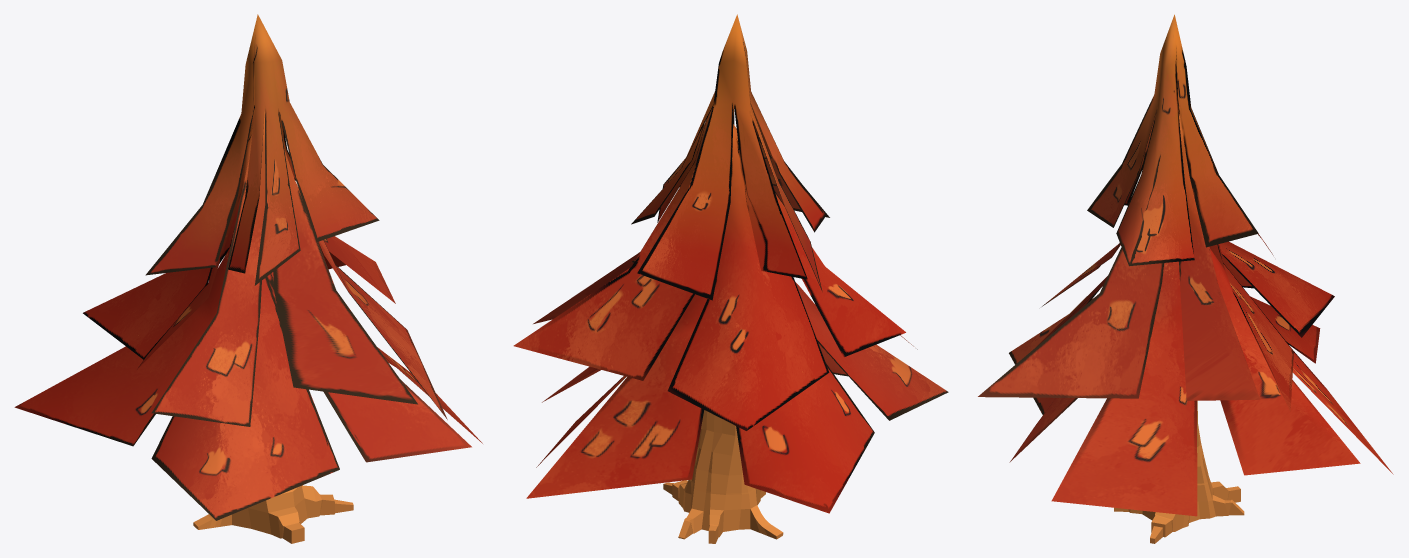
The model's file is spinetree.fbx.
3 renders of one model, left to right at view 1: azimuth 30°, elevation 25°; view 2: azimuth 150°, elevation 25°; view 3: azimuth 270°, elevation 25°, orthographic. The views are drawn at different scales.
Visible parts, largest first — view 1: Cube, Tree; view 2: Cube, Tree; view 3: Cube, Tree.
Part boxes in pixels (x1=…): Cube: x1=14, y1=14, x2=482, y2=520; Tree: x1=193, y1=485, x2=353, y2=543; Cube: x1=513, y1=14, x2=948, y2=513; Tree: x1=663, y1=410, x2=783, y2=543; Cube: x1=978, y1=14, x2=1393, y2=516; Tree: x1=1114, y1=400, x2=1244, y2=543.
Bounding box in the file's own units: 4.79 × 6.56 × 5.05.
